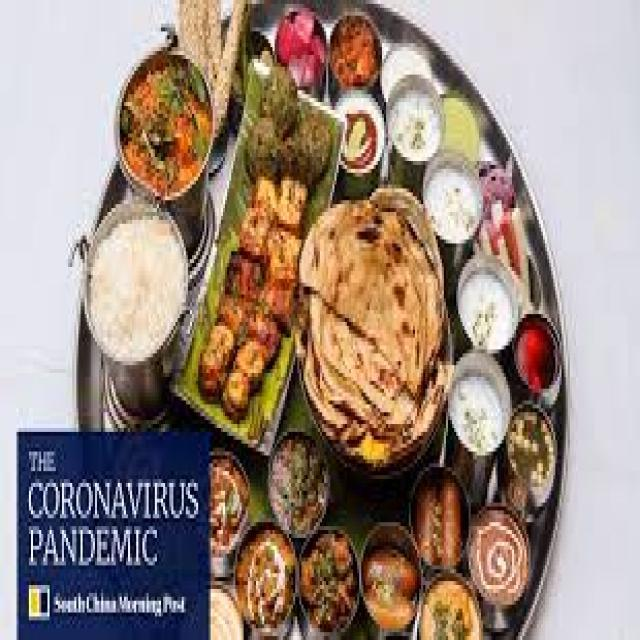curd: (83, 198, 195, 374)
raita: (449, 359, 513, 460), (454, 265, 522, 353), (424, 161, 481, 244)
rice: (452, 264, 527, 355)
roti: (299, 197, 448, 468)
sweet: (511, 310, 561, 399)
